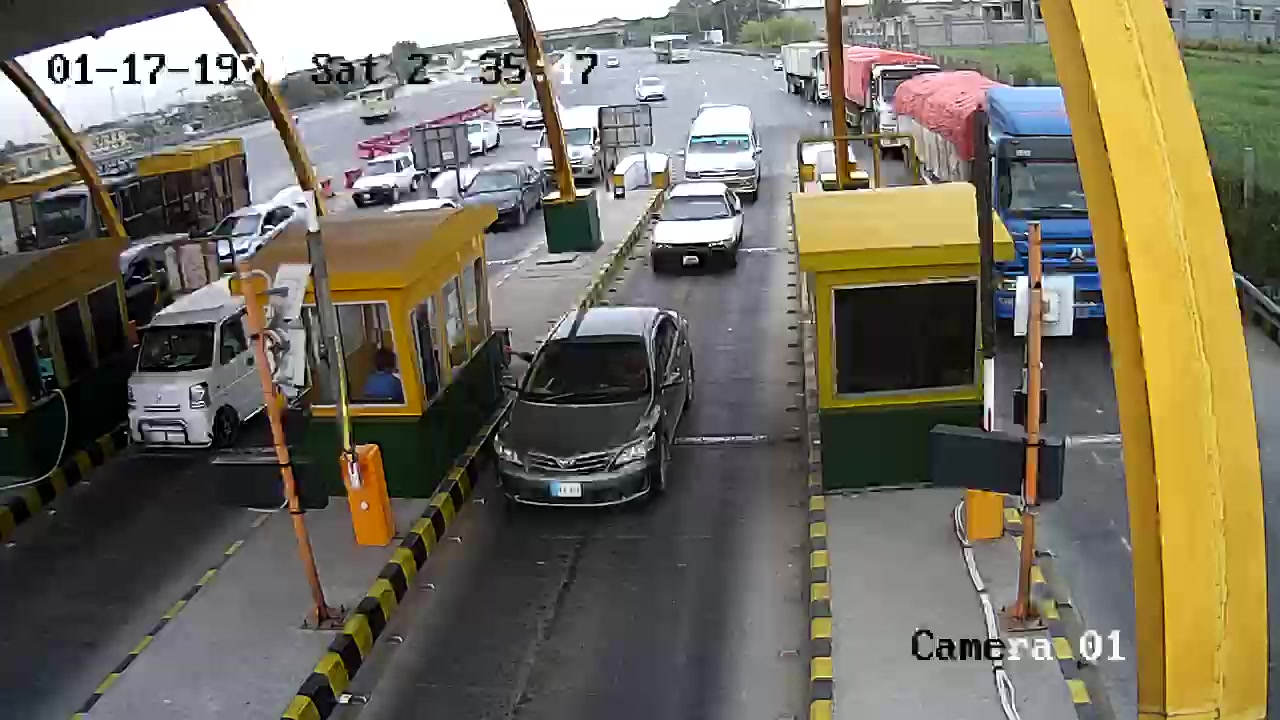F1: (488, 300, 699, 518), (647, 180, 750, 281)
